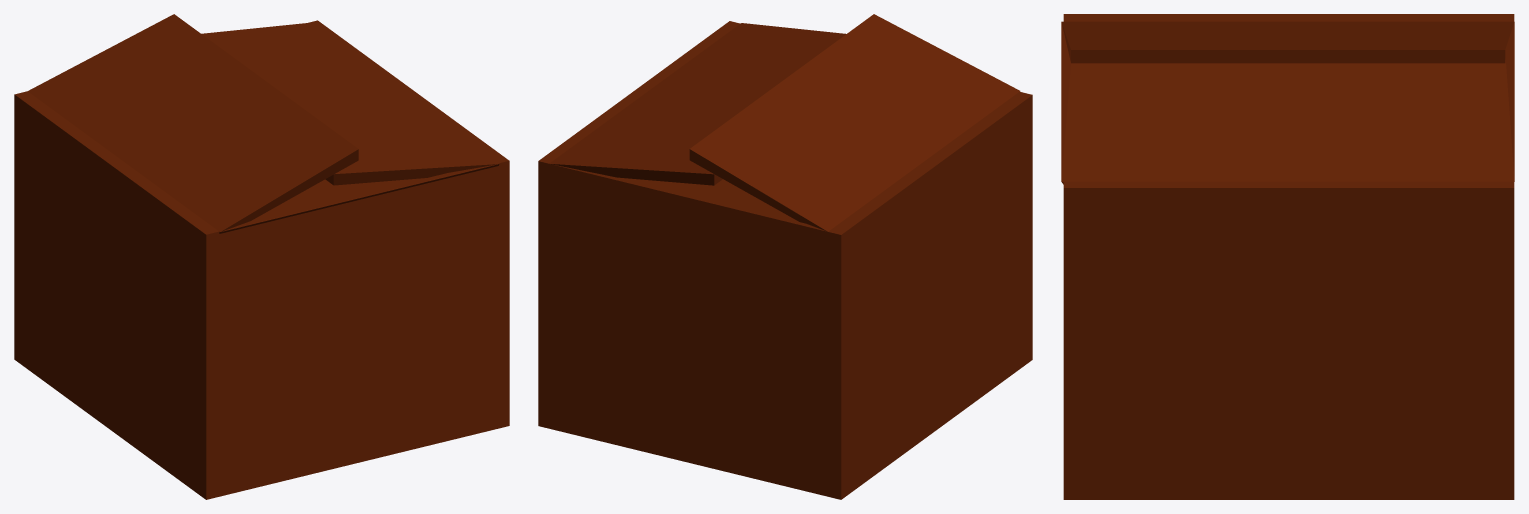
The model's file is boxOptionalInterest.fbx.
The picture shows the model from 3 angles, left to right: view 1: azimuth 30°, elevation 25°; view 2: azimuth 150°, elevation 25°; view 3: azimuth 270°, elevation 25°; orthographic projection. The views are drawn at different scales.
Parts seen in each view (by area): view 1: Cube; view 2: Cube; view 3: Cube.
Part boxes in pixels (left/top/right/bottom): Cube: left=14, top=14, right=509, bottom=499; Cube: left=538, top=14, right=1032, bottom=499; Cube: left=1061, top=14, right=1514, bottom=499.
Size of the model in its own units: 407 by 398 by 448.
